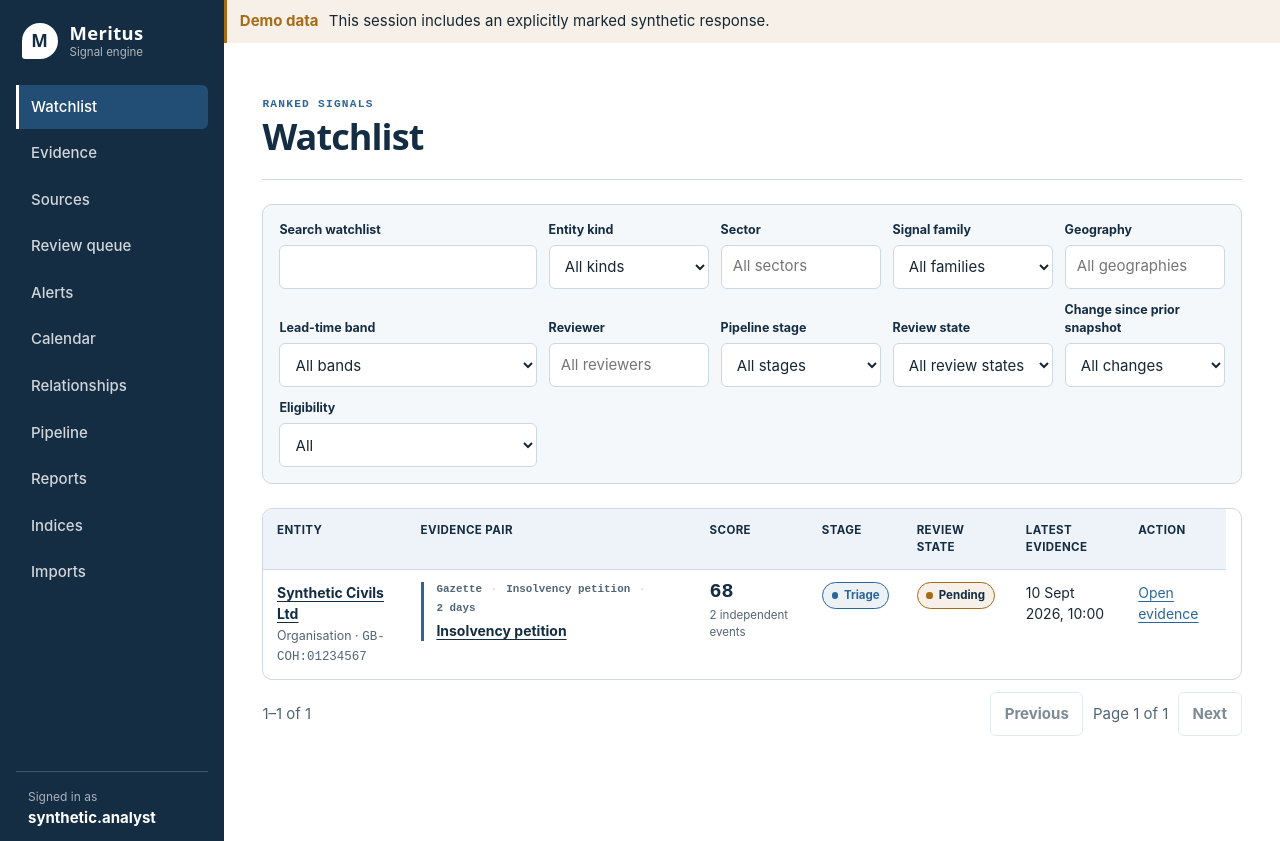
Test case: analyst desk interactions › disables the Relationships write when the entity register is unavailable
Click the link "Relationships": (79, 386) [31,376,127,395]
(page scrolled)
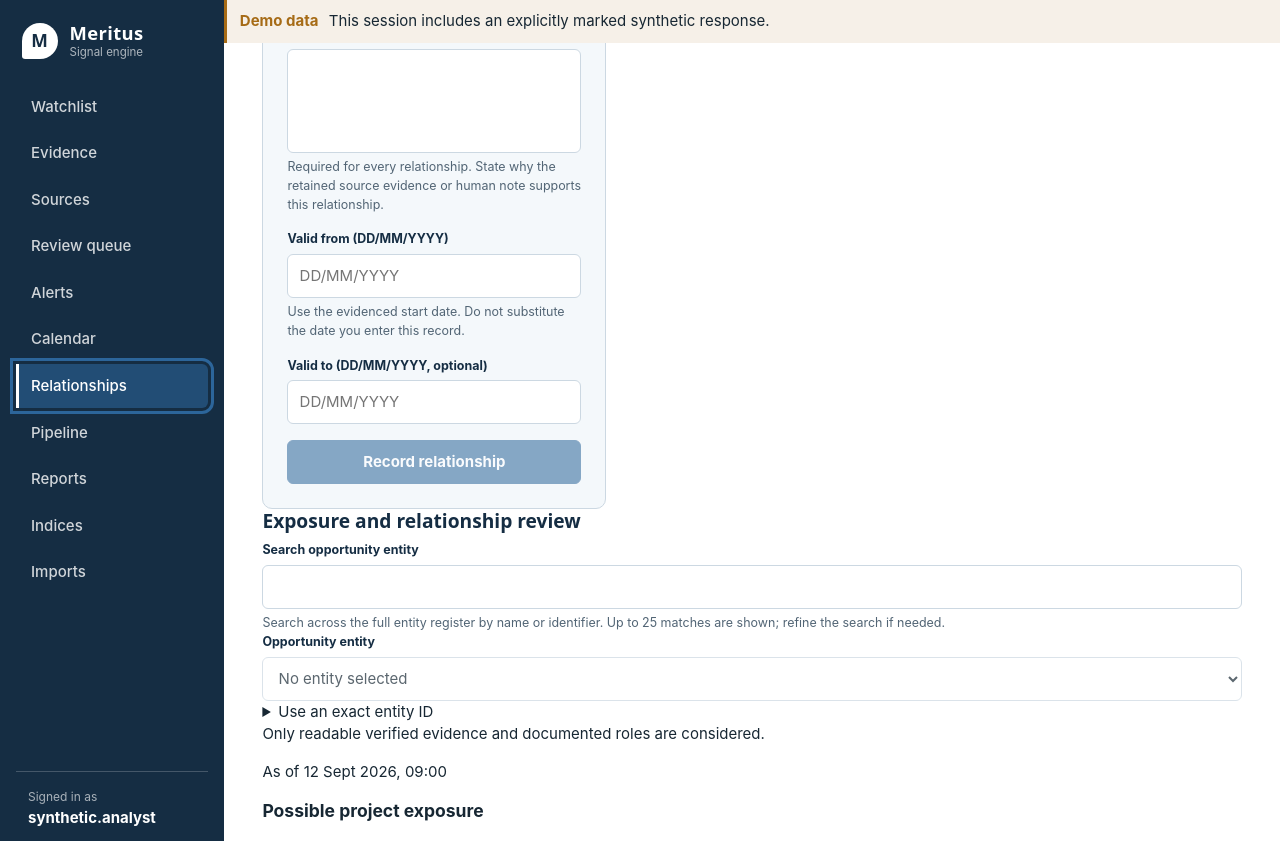
Expected: the button "Record relationship" is disabled, [287,440,581,484]
